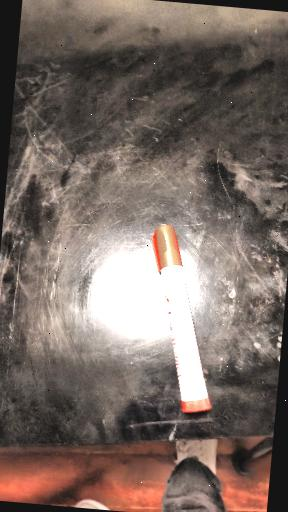marcador rojo: (151, 224, 210, 412)
